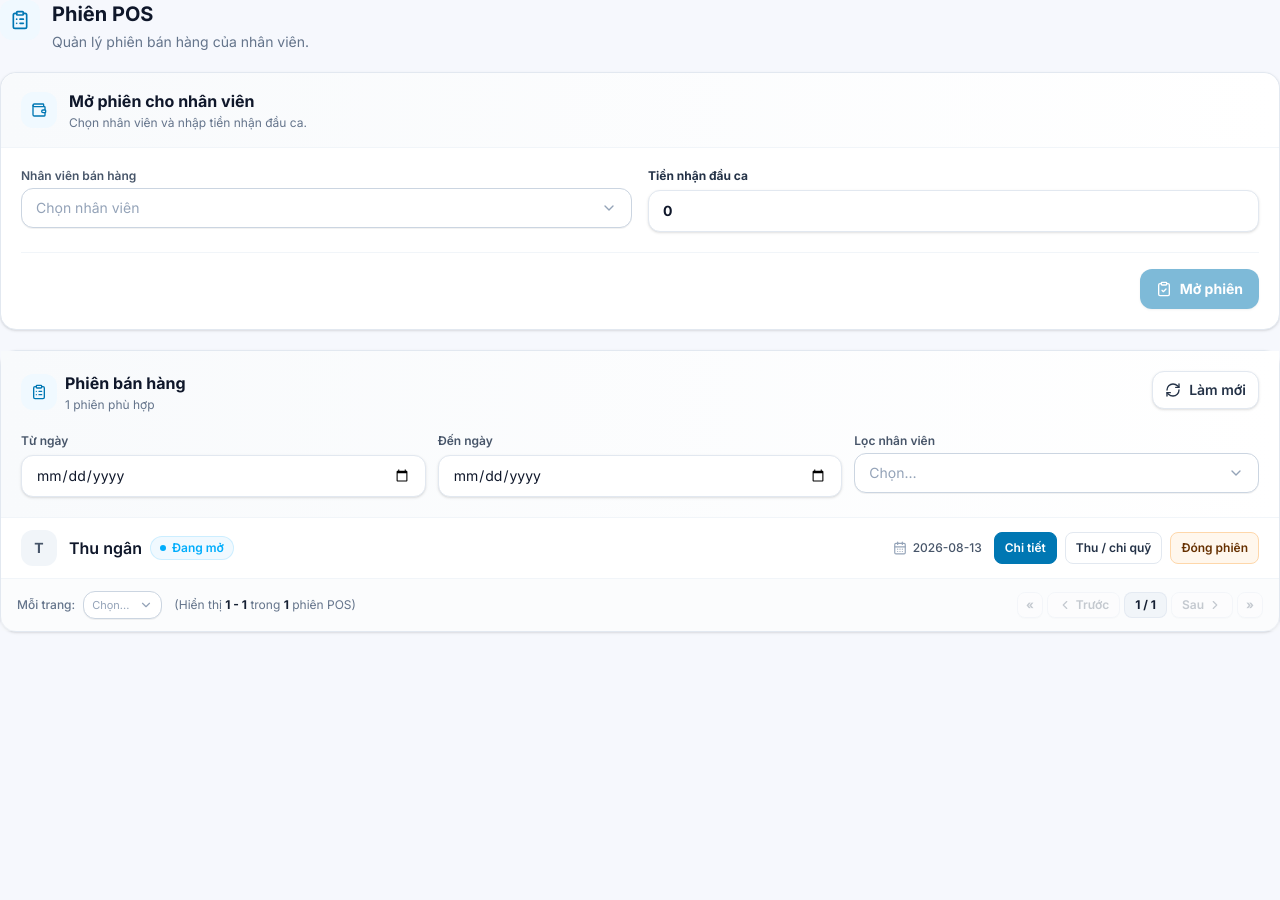
Test: RetailShiftsPage POS sessions › sends formatted counted cash and a variance reason when closing
Click the button "Đóng phiên": (1215, 548) [1170,532,1259,564]
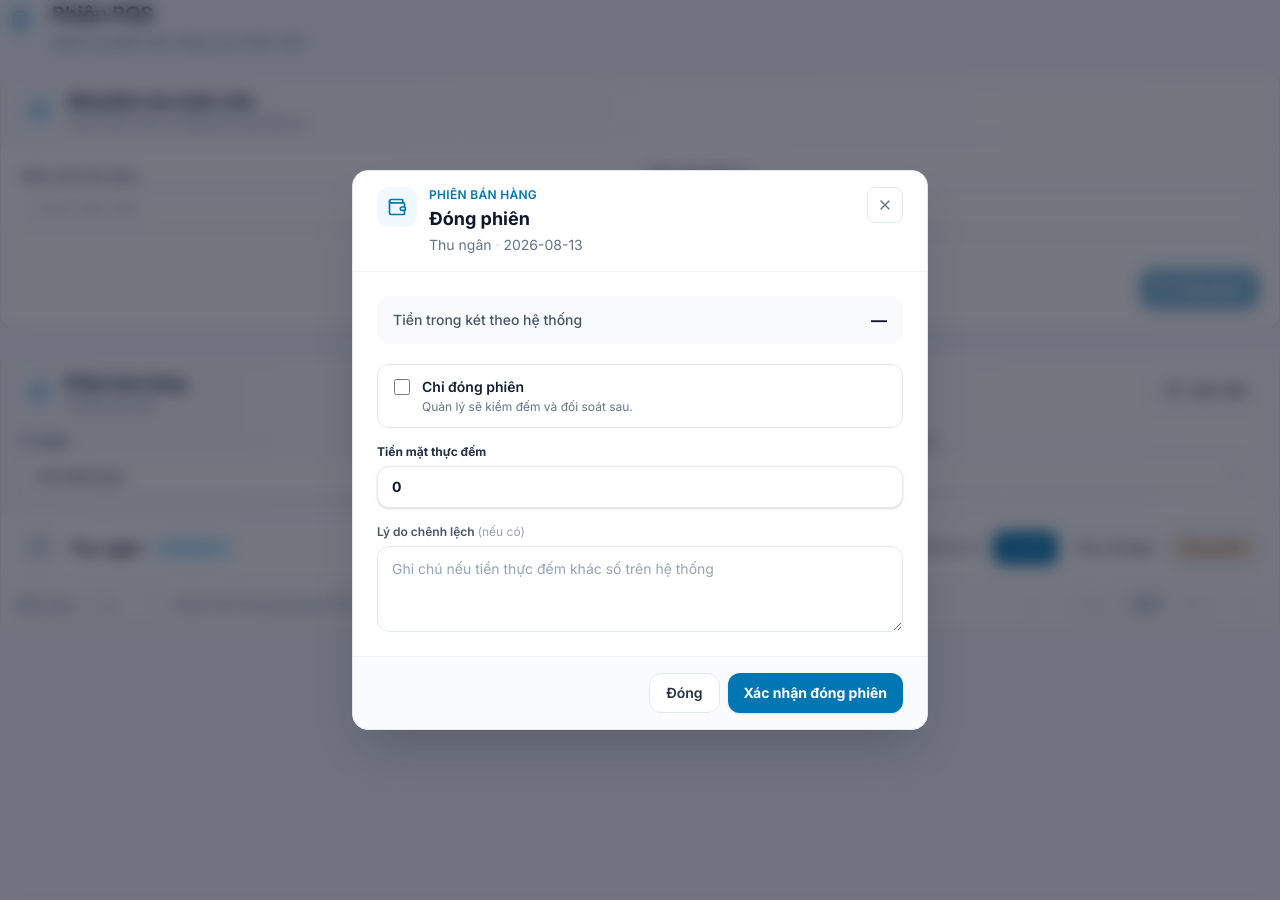
In the field labelled "Tiền mặt thực đếm": (640, 487) [377,466,903,508], type "1.300.000"
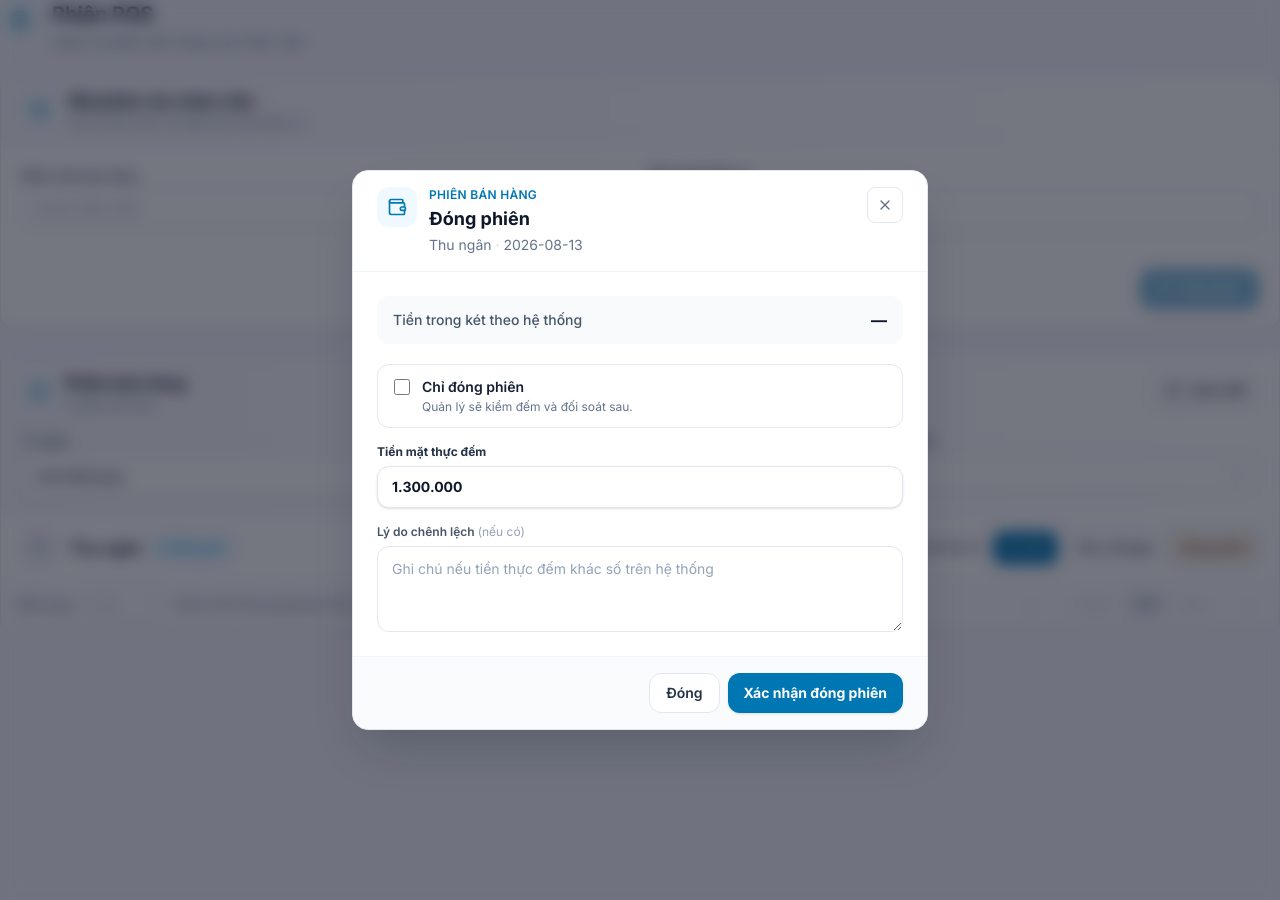
In the text box labelled "Lý do chênh lệch (nếu có)": (640, 589) [377,546,903,632], type "Rút tiền nộp két chính"
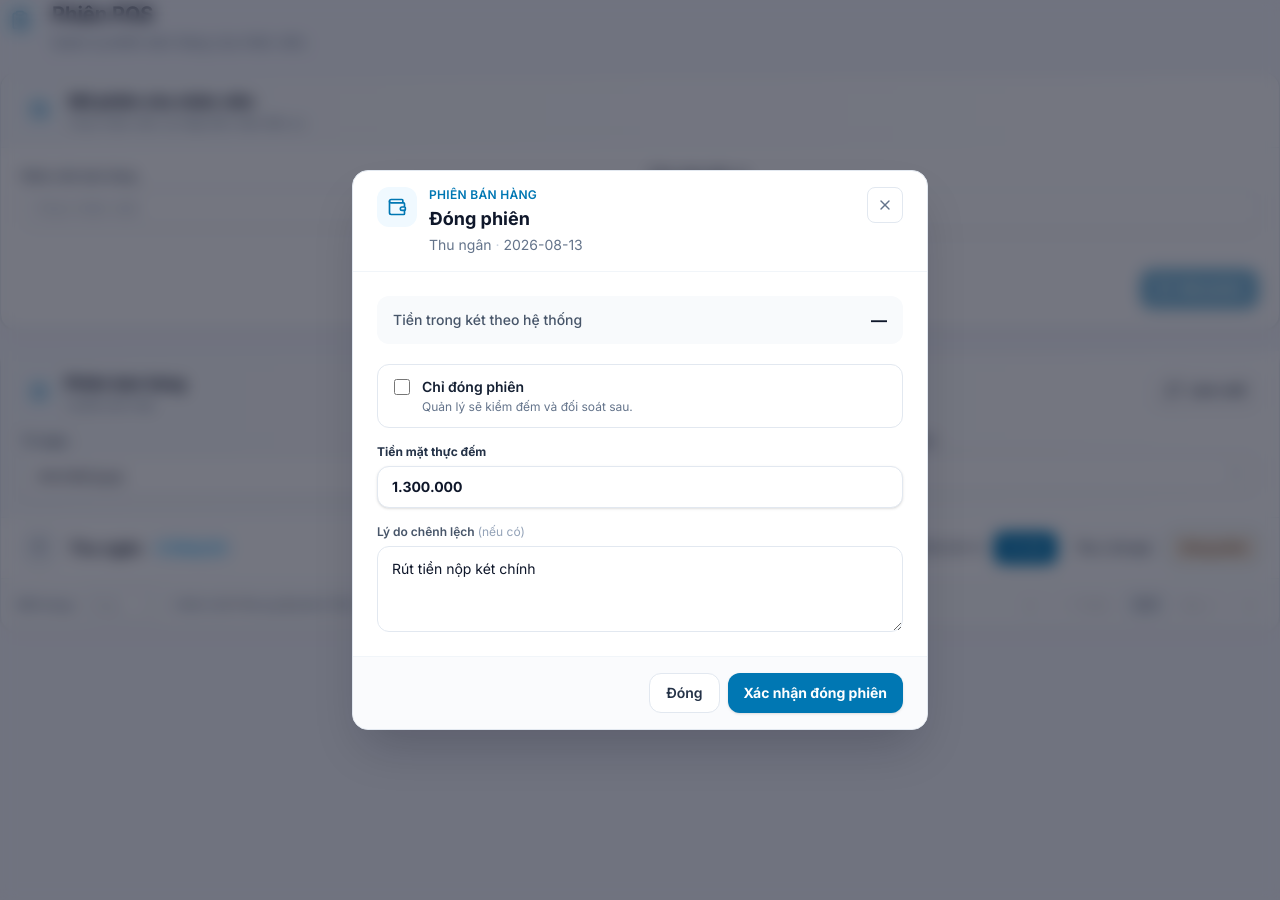
Click the button "Xác nhận đóng phiên": (815, 693) [728,673,903,713]
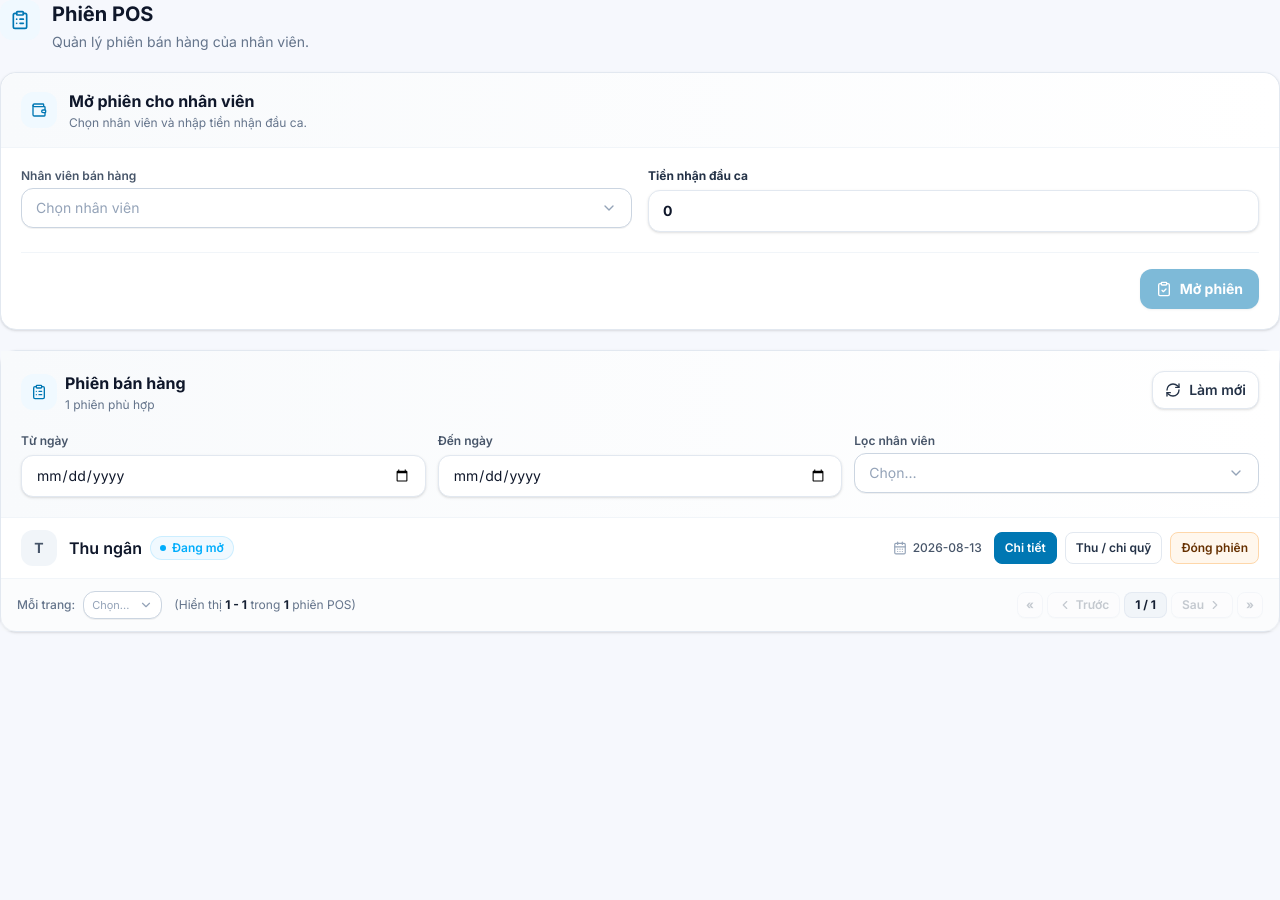
Check: the dialog is gone
